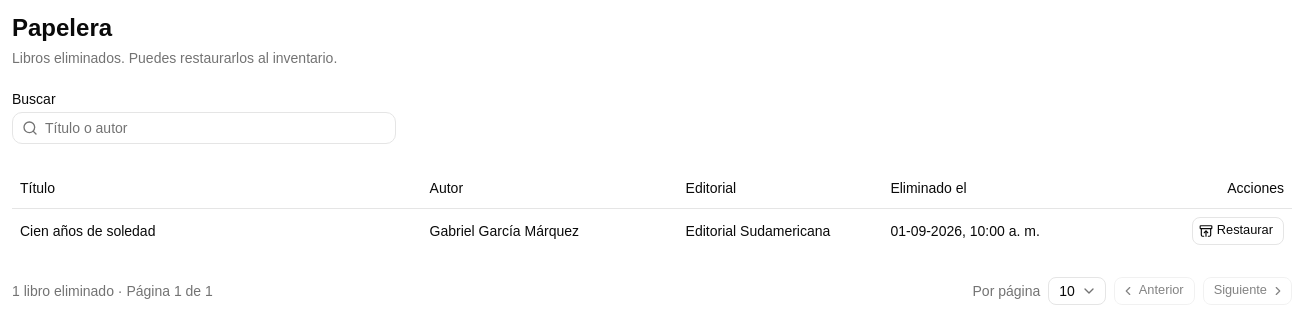
Test: TrashPage › muestra un toast de error si la restauración falla
What coordinates should you click on to do the following:
click the button "Restaurar"
I would click on:
 (1238, 230)
Its box is [1192,216,1284,244].
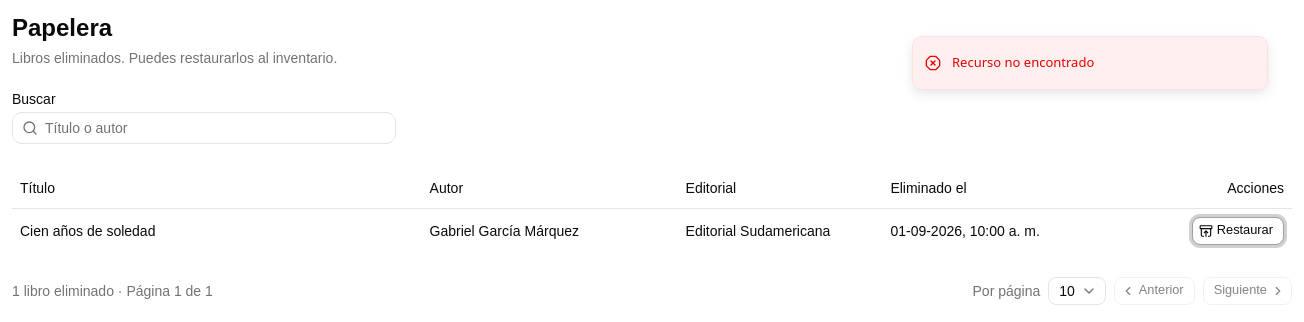
Expected: the text "Cien años de soledad" is shown, [12,208,422,252]
Expected: the text "Recurso no encontrado" is shown, [952,53,1094,72]
